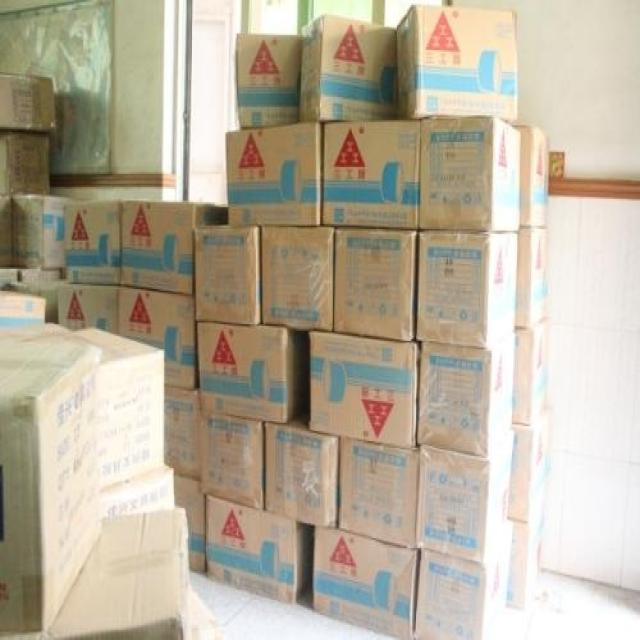box: (0, 343, 104, 633), (73, 326, 164, 489), (394, 4, 516, 124), (418, 429, 514, 564), (418, 328, 517, 458), (309, 332, 417, 448), (416, 231, 518, 349), (314, 521, 416, 638), (206, 495, 313, 604), (418, 118, 521, 231), (415, 521, 513, 638), (197, 322, 309, 423), (301, 14, 401, 124), (324, 121, 419, 230), (123, 199, 224, 293), (226, 124, 320, 225), (335, 226, 415, 339), (340, 439, 419, 551), (264, 411, 340, 527), (261, 225, 336, 332), (120, 286, 196, 390), (199, 411, 266, 510), (194, 226, 260, 322), (236, 35, 302, 127), (63, 200, 122, 287), (509, 407, 551, 522), (508, 497, 547, 614), (11, 197, 76, 267), (514, 314, 551, 427), (514, 122, 551, 227), (103, 464, 176, 515), (55, 277, 118, 334), (164, 387, 201, 480), (0, 71, 57, 131), (518, 229, 551, 330), (175, 476, 208, 576), (0, 131, 50, 195)
